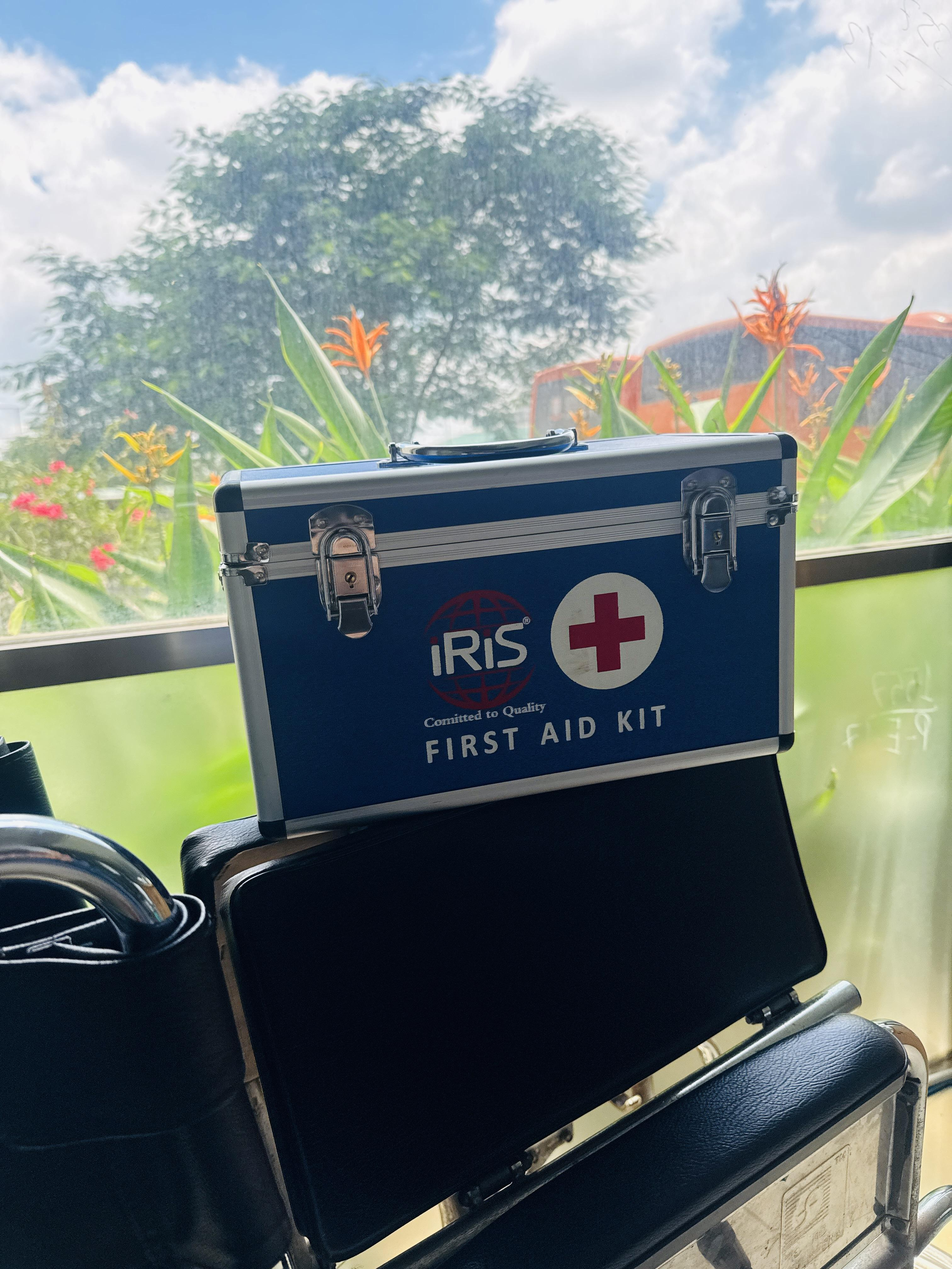FirstAidBox: (173, 399, 855, 851)
